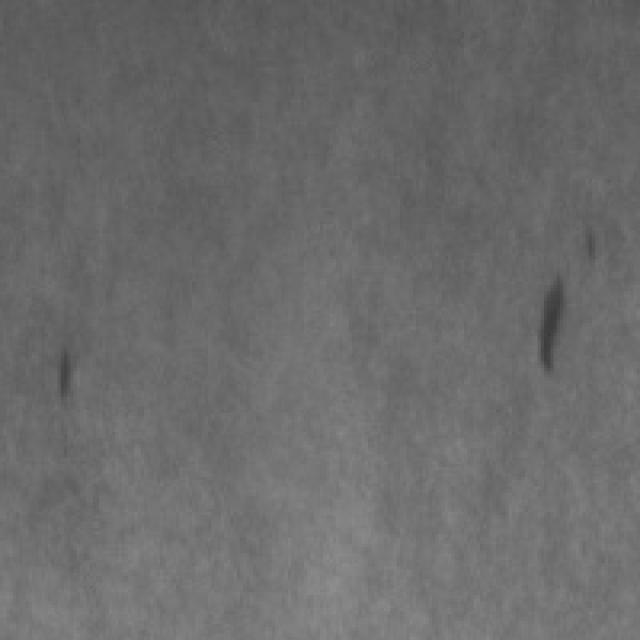inclusion: (528, 221, 598, 371), (42, 333, 76, 422)
